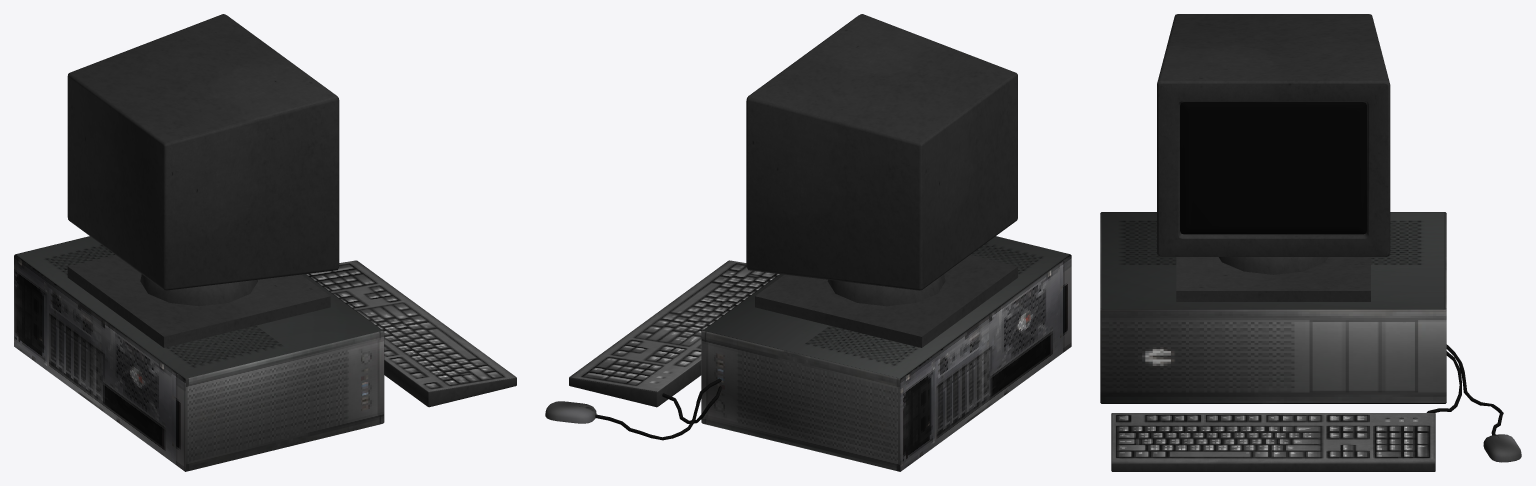
The model's file is _ComputerSet.FBX.
3 renders of one model, left to right at view 1: azimuth 30°, elevation 25°; view 2: azimuth 150°, elevation 25°; view 3: azimuth 270°, elevation 25°, orthographic.
Visible parts, largest first — view 1: _ComputerSet; view 2: _ComputerSet; view 3: _ComputerSet.
Boxes of the visible parts, <box> form: _ComputerSet: <box>14,14,516,471</box>; _ComputerSet: <box>545,14,1071,471</box>; _ComputerSet: <box>1100,14,1521,471</box>.
Size of the model in its own units: 304 by 268 by 325.
Materials: 4 (2 with a texture image).
